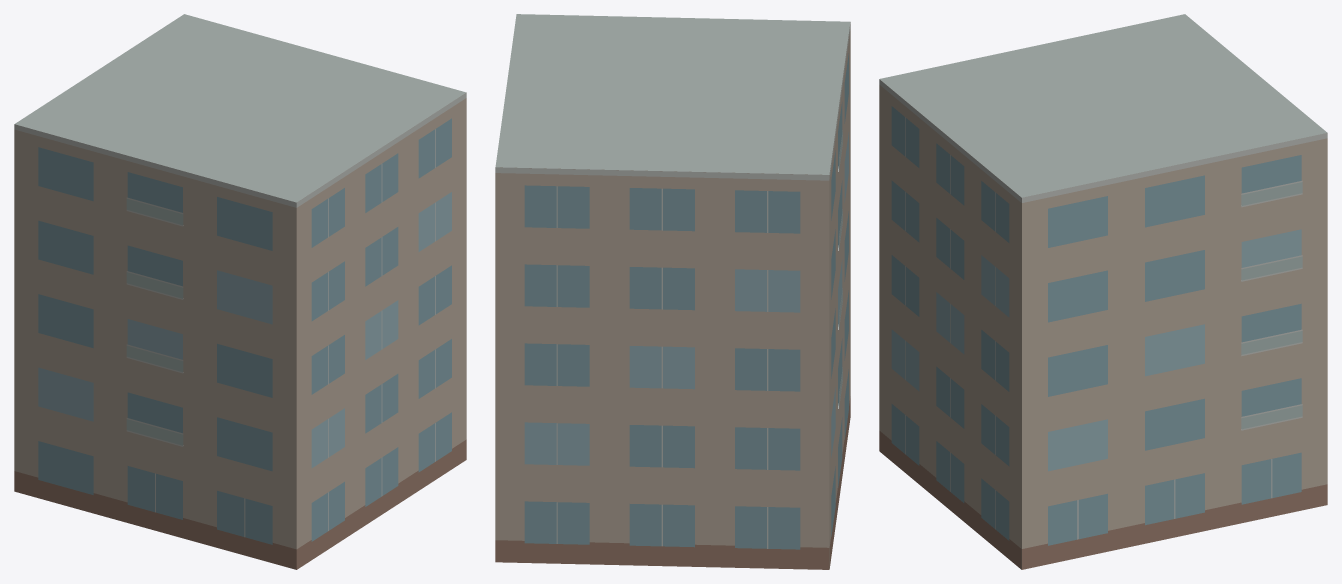
Rendered from survey-upis-32827671.glb.
The picture shows the model from 3 angles, left to right: view 1: azimuth 30°, elevation 25°; view 2: azimuth 150°, elevation 25°; view 3: azimuth 270°, elevation 25°; orthographic projection. The views are drawn at different scales.
Visible parts, largest first — view 1: survey-upis-32827671.tmp; view 2: survey-upis-32827671.tmp; view 3: survey-upis-32827671.tmp.
Part boxes in pixels (<box>): survey-upis-32827671.tmp: <box>14,14,466,569</box>; survey-upis-32827671.tmp: <box>495,14,850,569</box>; survey-upis-32827671.tmp: <box>879,14,1327,569</box>.
Bounding box in the file's own units: 17.79 × 16.79 × 18.35.
